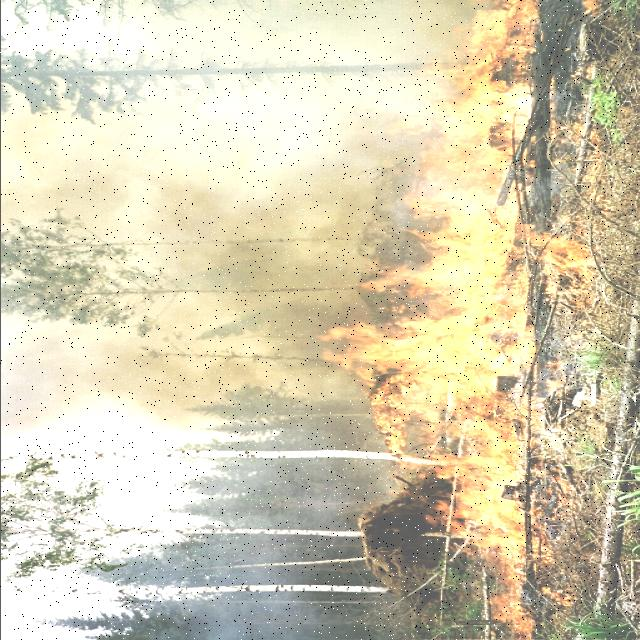api: (448, 6, 526, 626), (365, 149, 445, 457)
asap: (1, 155, 349, 441), (1, 3, 440, 147)
